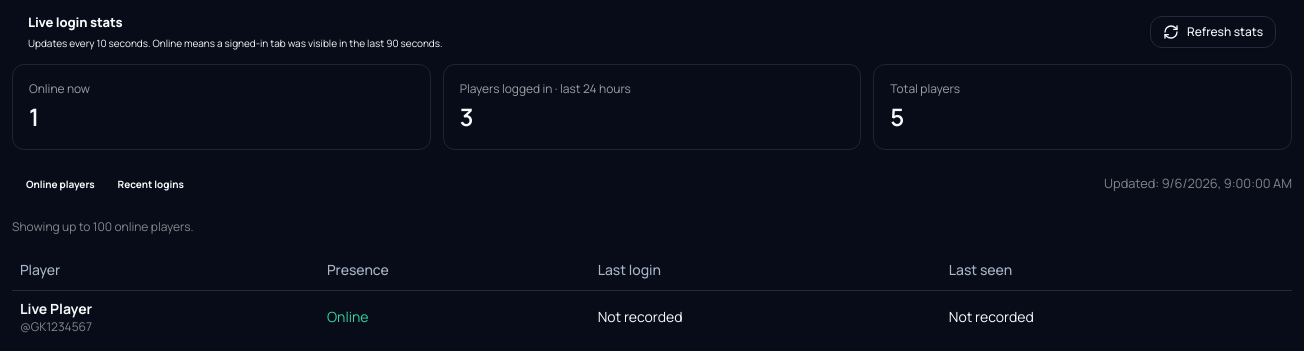
Test: shows live players and recent logins with accurate definitions
Click the button "Recent logins": (151, 184) [108, 170, 194, 198]
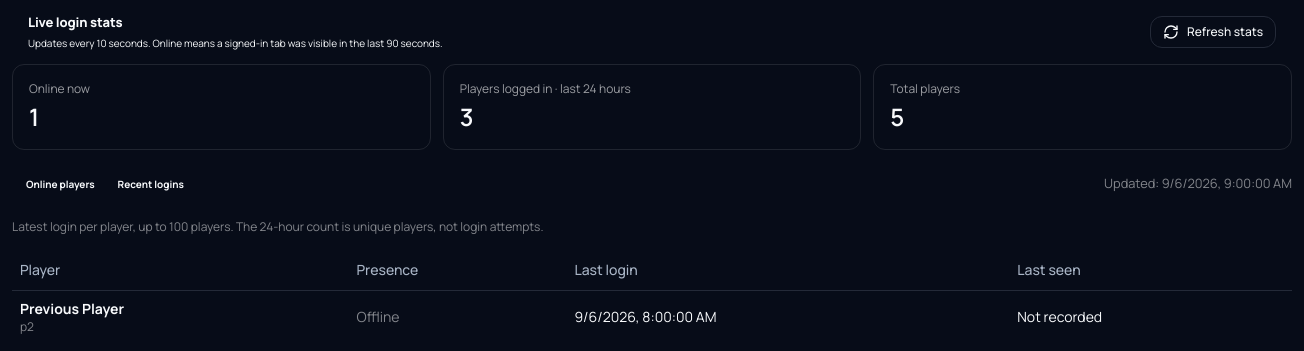
Now the text "Previous Player" is shown, box [20, 299, 124, 318]
Now the text "Offline" is shown, box [356, 307, 399, 326]
Now the text "unique players, not login attempts" is shown, box [12, 218, 544, 234]
